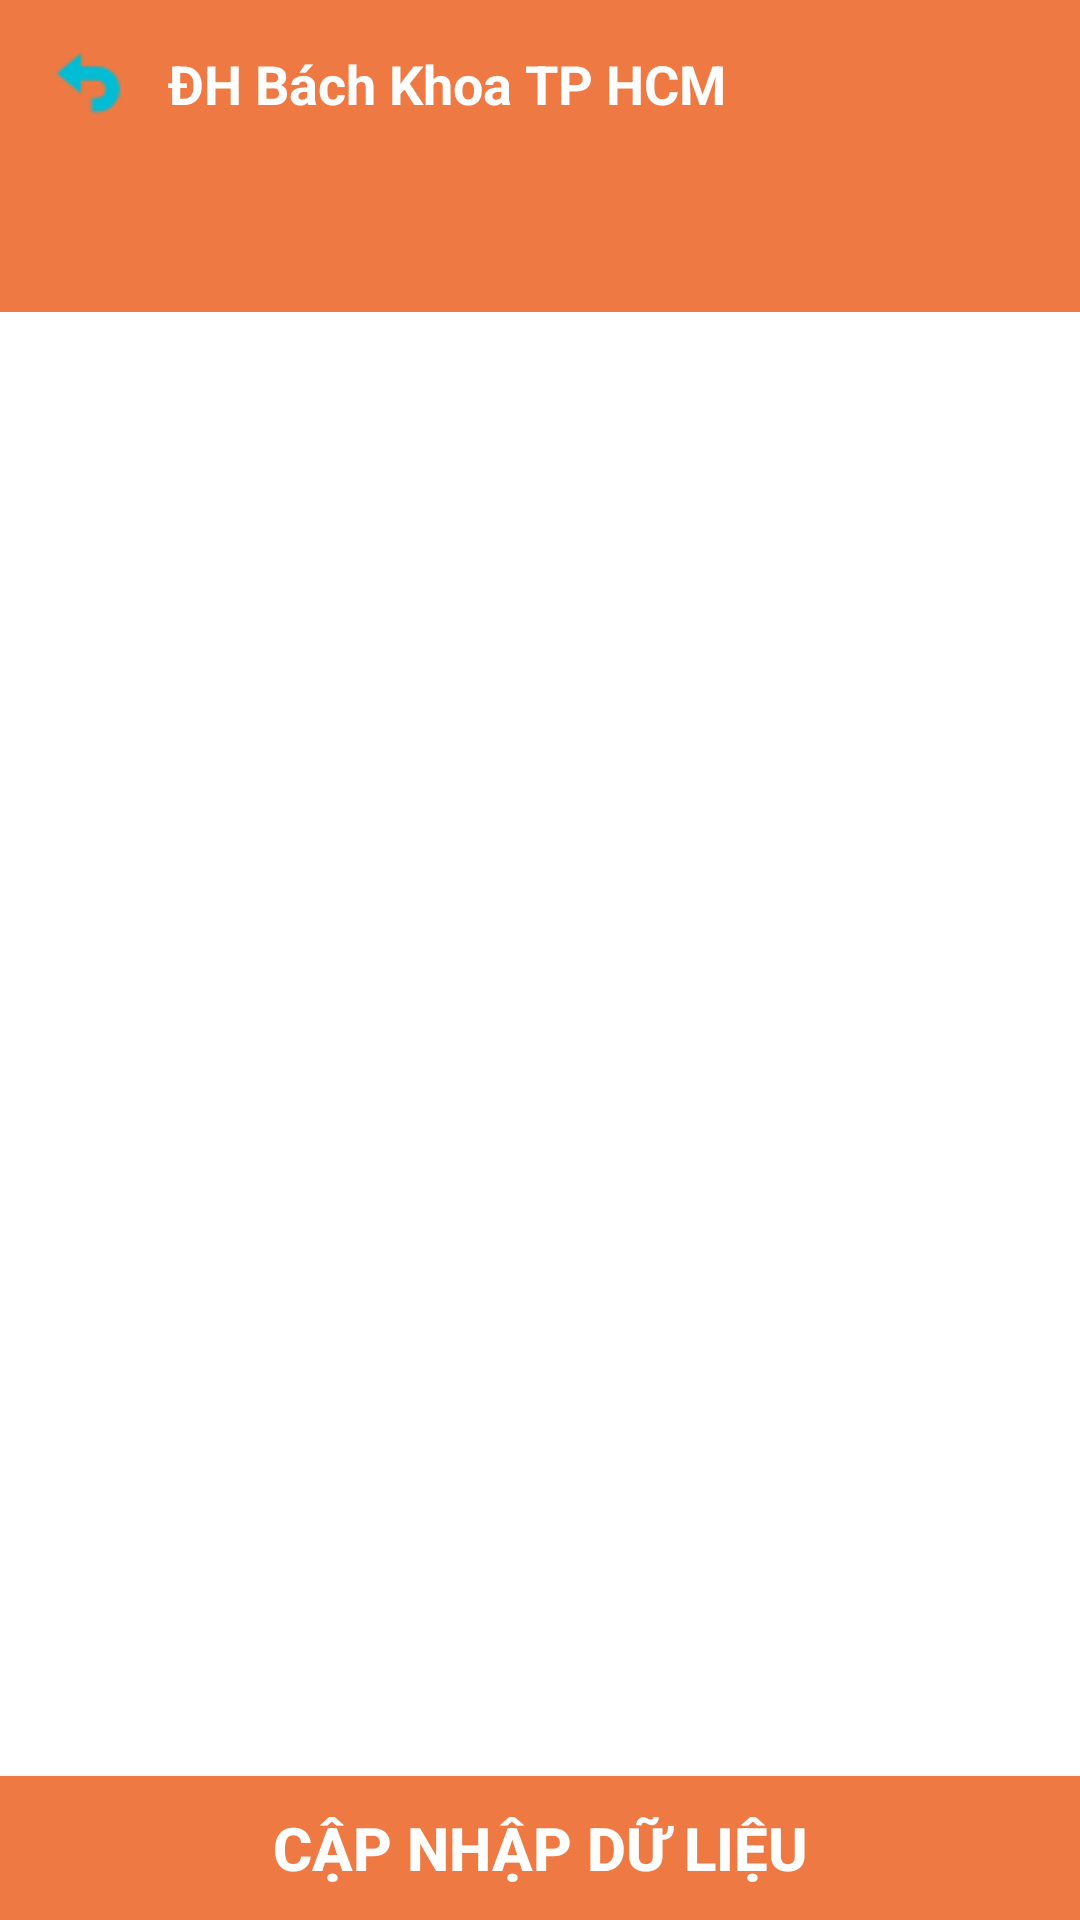

Named icons in this screenshot (1080px x 1920px) and their centers, (x=x, y=y):
back: (x=88, y=83)
